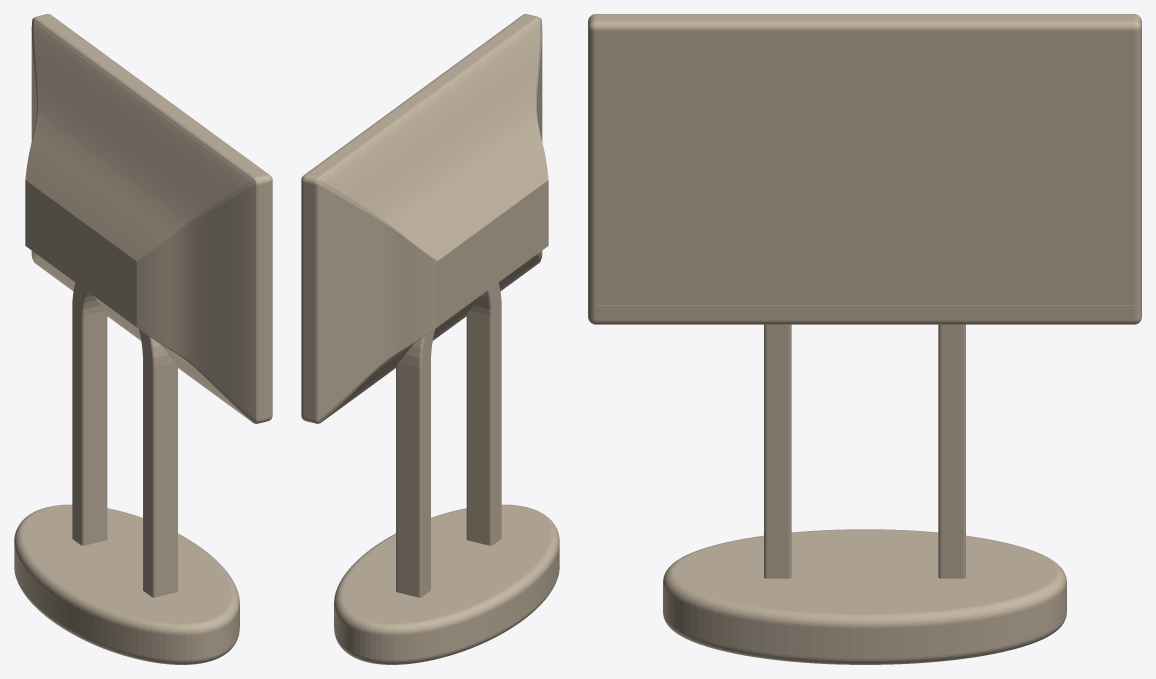
File: 3dcodebench_Monitor_seed0_L3_Q2__gemini38flash.glb
3 views of the same model, side by side, from view 1: azimuth 30°, elevation 25°; view 2: azimuth 150°, elevation 25°; view 3: azimuth 270°, elevation 25° (orthographic). The views are drawn at different scales.
Visible parts, largest first — view 1: object; view 2: object; view 3: object.
Part boxes in pixels (bbox=[...]): object: bbox=[14, 14, 272, 664]; object: bbox=[301, 14, 559, 664]; object: bbox=[588, 14, 1141, 664].
Size of the model in its own units: 0.24 by 0.7444 by 0.6033.
